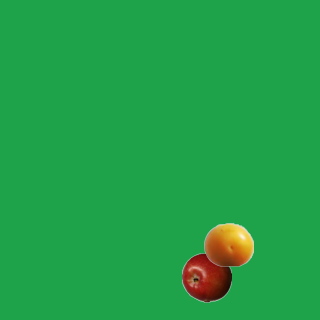Apple Braeburn: (181, 252, 231, 302)
Cherry Wax Yellow: (203, 219, 253, 269)
